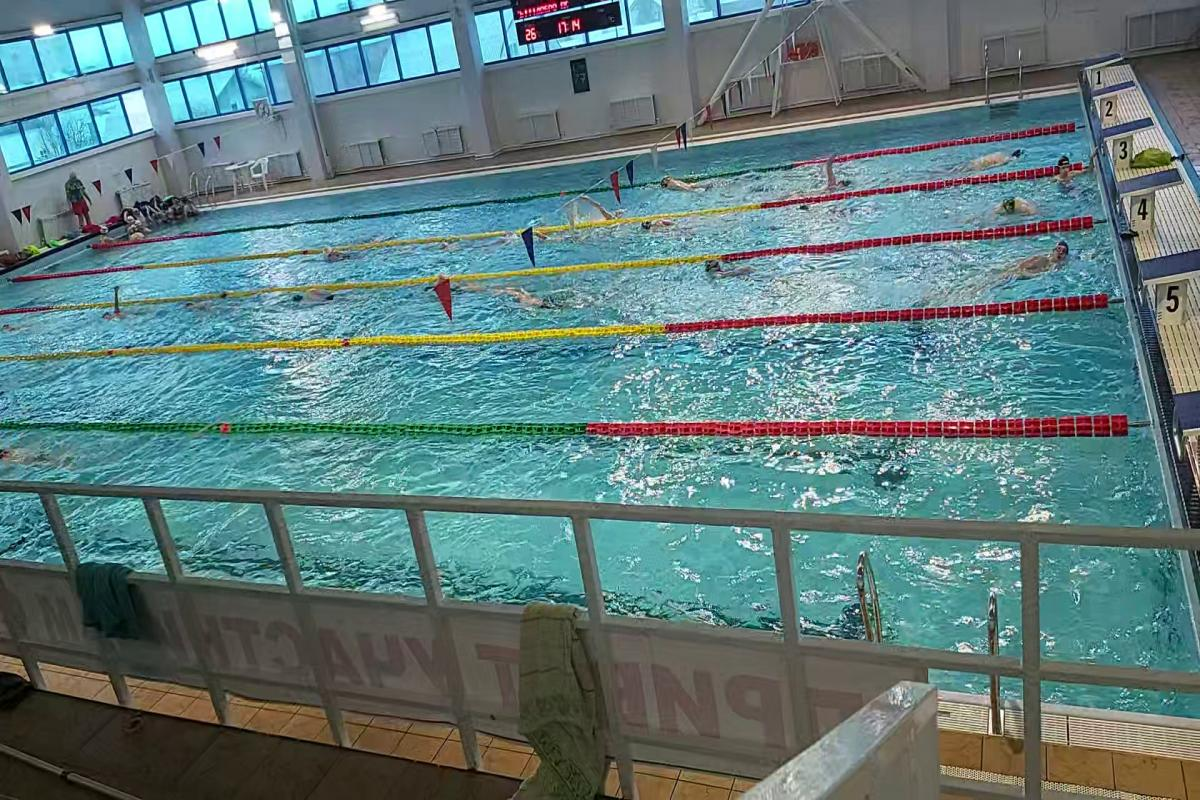swimmer: (931, 236, 1087, 298), (489, 274, 603, 313), (3, 430, 82, 476), (778, 162, 873, 196), (662, 164, 734, 200), (936, 148, 1036, 173), (286, 282, 363, 314), (987, 187, 1049, 224), (698, 250, 761, 284), (308, 238, 376, 266), (639, 208, 700, 239), (577, 188, 628, 225), (87, 292, 152, 320), (175, 292, 230, 322), (1052, 155, 1087, 192)
